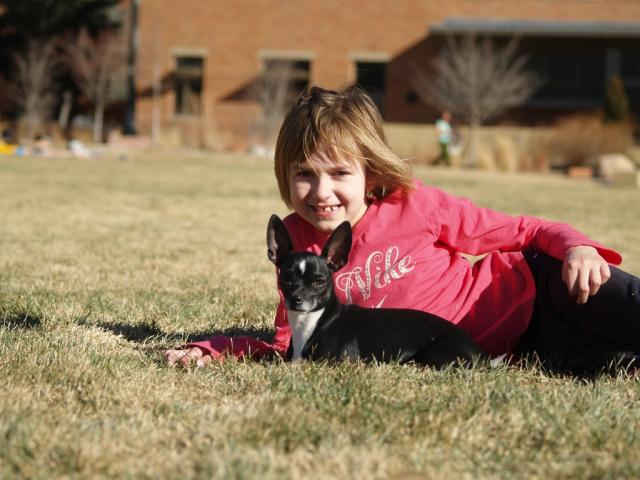Dog: (266, 211, 489, 372)
